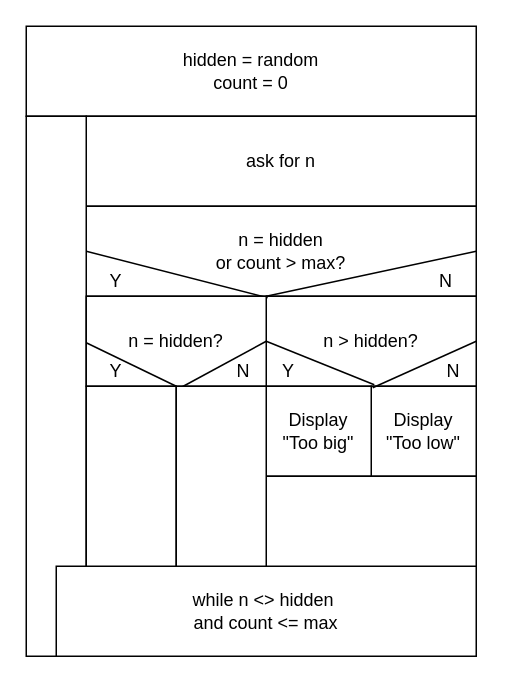
This 510x683 diagram has some shape labels left out. The centre of each missing label's shape, as x and y in pixels:
count ++: (370,520)
Display "It was" + hidden: (220,475)
Display "You did it": (130,475)
